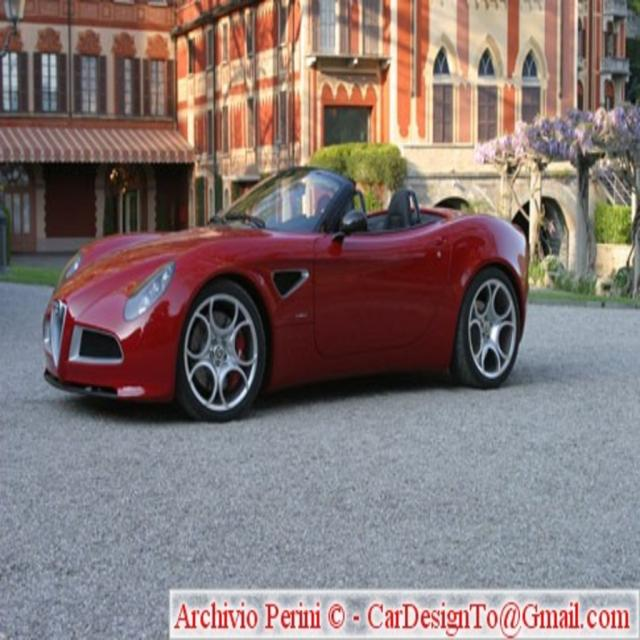car: (41, 160, 531, 423)
